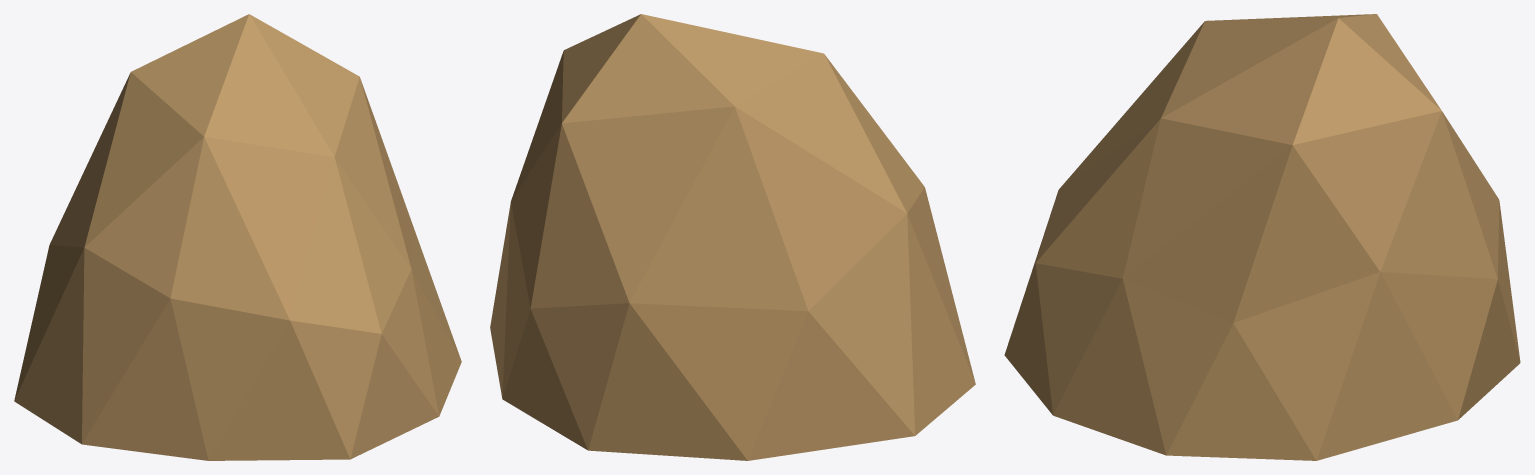
The model's file is PrairieStone(3).fbx.
The picture shows the model from 3 angles, left to right: view 1: azimuth 30°, elevation 25°; view 2: azimuth 150°, elevation 25°; view 3: azimuth 270°, elevation 25°; orthographic projection. The views are drawn at different scales.
Visible parts, largest first — view 1: PrairieStone(3); view 2: PrairieStone(3); view 3: PrairieStone(3).
Boxes of the visible parts, <box> form: PrairieStone(3): <box>14,14,461,460</box>; PrairieStone(3): <box>490,14,975,460</box>; PrairieStone(3): <box>1004,14,1520,460</box>.
Bounding box in the file's own units: 2.28 × 1.83 × 2.36.
